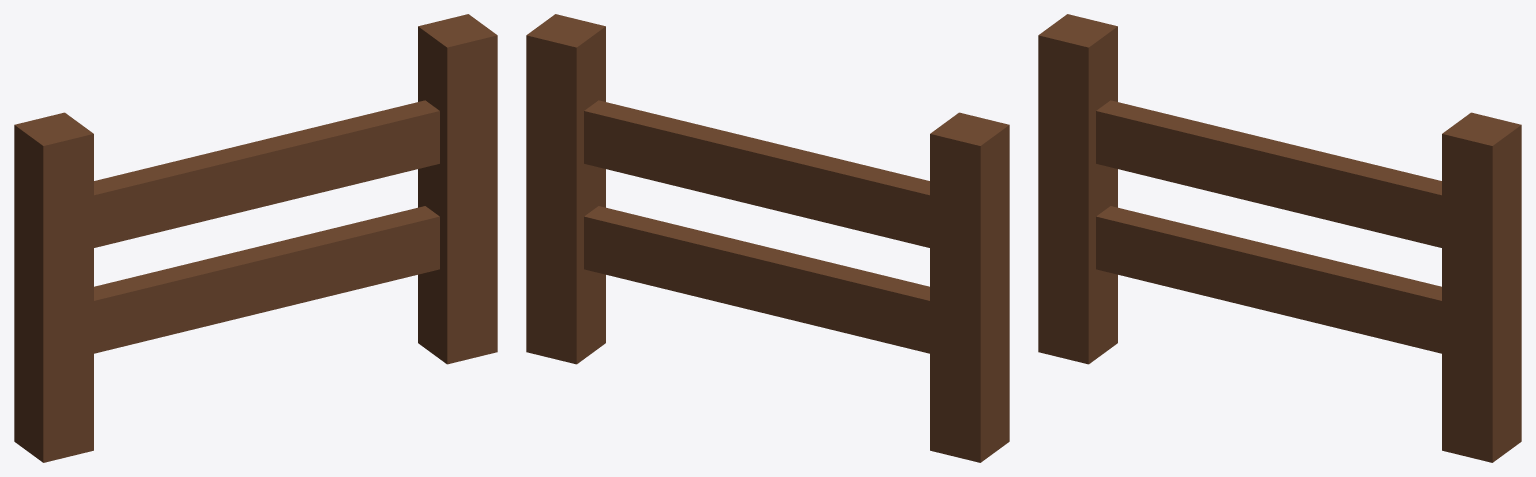
File: obstacles_fance_3.fbx
The picture shows the model from 3 angles, left to right: view 1: azimuth 30°, elevation 25°; view 2: azimuth 150°, elevation 25°; view 3: azimuth 330°, elevation 25°; orthographic projection.
Parts seen in each view (by area): view 1: Cube.002; view 2: Cube.002; view 3: Cube.002.
Boxes of the visible parts, x1=… form: Cube.002: x1=14, y1=14, x2=497, y2=462; Cube.002: x1=526, y1=14, x2=1009, y2=462; Cube.002: x1=1038, y1=14, x2=1521, y2=462.
Bounding box in the file's own units: 450 × 300 × 50.
